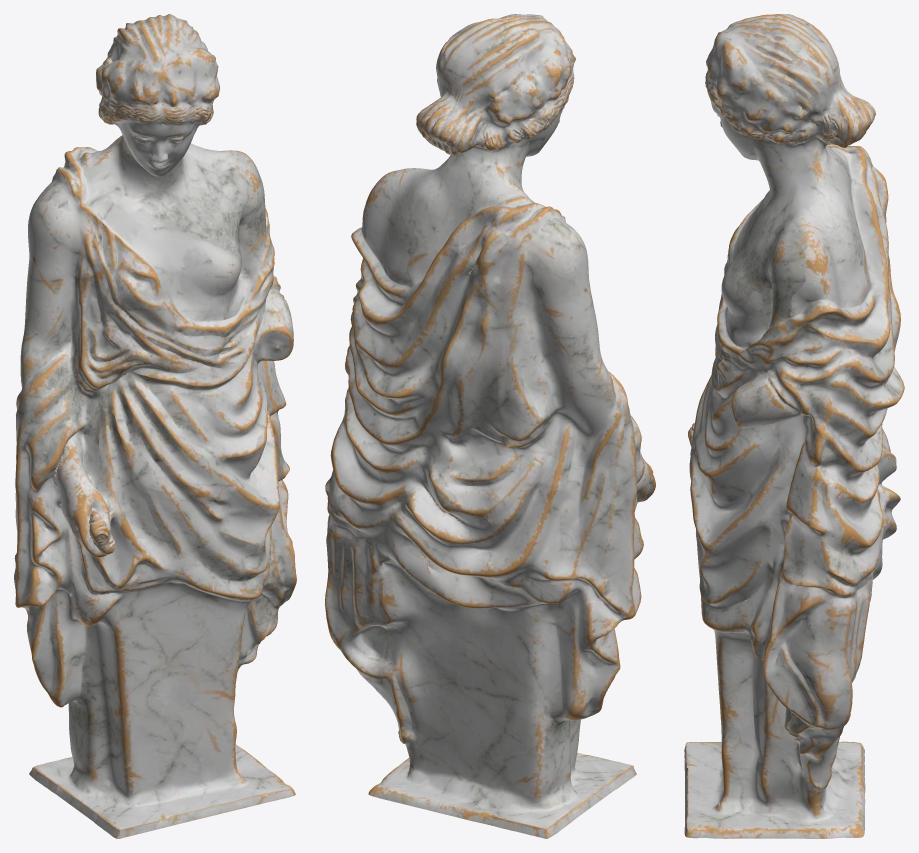
Rendered from hestia.glb.
The picture shows the model from 3 angles, left to right: view 1: azimuth 30°, elevation 25°; view 2: azimuth 150°, elevation 25°; view 3: azimuth 270°, elevation 25°; orthographic projection.
Visible parts, largest first — view 1: Hestia; view 2: Hestia; view 3: Hestia.
Boxes of the visible parts, x1,y1,x2,y2 form: Hestia: (14, 14, 296, 838); Hestia: (325, 14, 655, 838); Hestia: (684, 14, 904, 838).
Bounding box in the file's own units: 7.36 × 18.62 × 4.83.
1 material, 1 textured.
